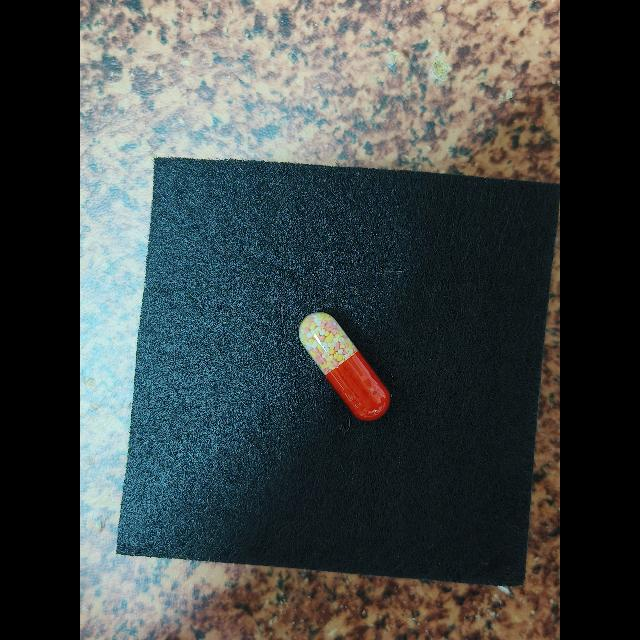Intact Capsule: (299, 312, 390, 420)
